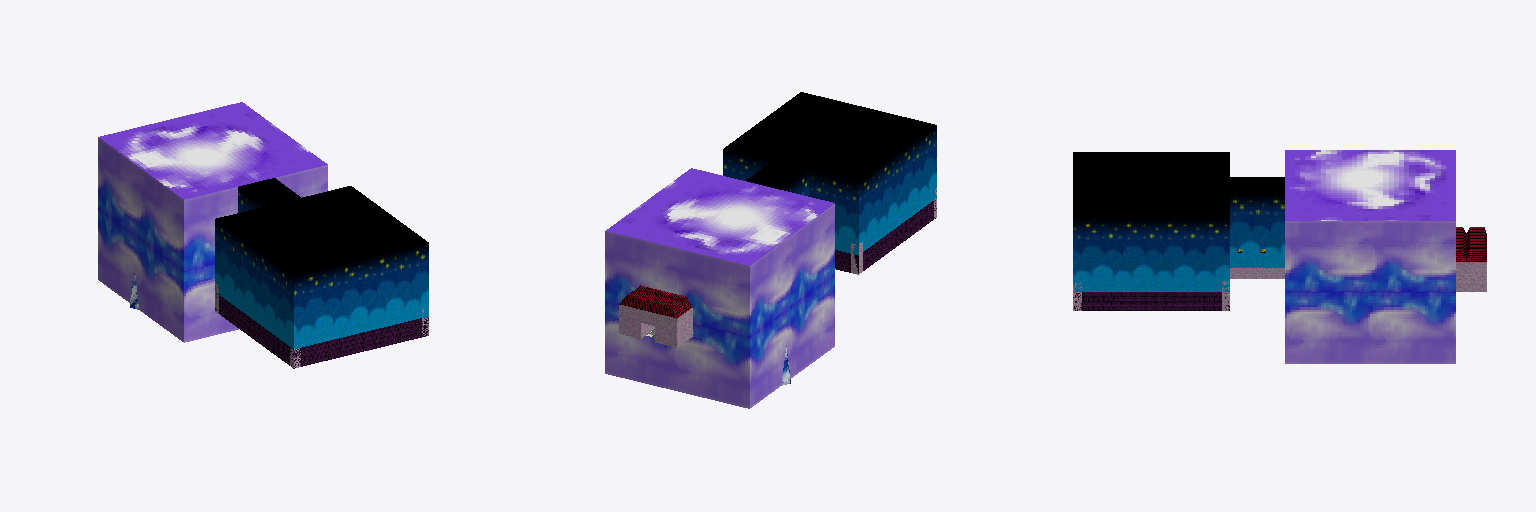
3 views of the same model, side by side, from view 1: azimuth 30°, elevation 25°; view 2: azimuth 150°, elevation 25°; view 3: azimuth 270°, elevation 25° (orthographic).
Parts seen in each view (by area): view 1: mesh.001__251.001, mesh.001__106.001, mesh.001__254.001, mesh.001__125.001, mesh.001__94.001; view 2: mesh.001__251.001, mesh.001__254.001, mesh.001__125.001, mesh.001__106.001, mesh.001__97.001, mesh.001__94.001, mesh.001__74.001; view 3: mesh.001__251.001, mesh.001__106.001, mesh.001__254.001, mesh.001__125.001, mesh.001__94.001, mesh.001__97.001, mesh.001__74.001.
Part boxes in pixels (bbox=[...]): mesh.001__251.001: bbox=[98, 137, 327, 342]; mesh.001__106.001: bbox=[215, 187, 428, 348]; mesh.001__254.001: bbox=[99, 102, 327, 199]; mesh.001__125.001: bbox=[216, 178, 428, 275]; mesh.001__94.001: bbox=[215, 294, 428, 368]; mesh.001__251.001: bbox=[605, 204, 834, 408]; mesh.001__254.001: bbox=[606, 168, 834, 265]; mesh.001__125.001: bbox=[724, 92, 935, 189]; mesh.001__106.001: bbox=[723, 125, 936, 255]; mesh.001__97.001: bbox=[619, 188, 936, 347]; mesh.001__94.001: bbox=[835, 200, 936, 272]; mesh.001__74.001: bbox=[619, 285, 692, 318]; mesh.001__251.001: bbox=[1285, 221, 1455, 363]; mesh.001__106.001: bbox=[1073, 195, 1284, 291]; mesh.001__254.001: bbox=[1285, 150, 1455, 220]; mesh.001__125.001: bbox=[1073, 152, 1284, 218]; mesh.001__94.001: bbox=[1073, 292, 1229, 310]; mesh.001__97.001: bbox=[1073, 262, 1486, 310]; mesh.001__74.001: bbox=[1456, 227, 1486, 261].
Size of the model in its own units: 2011 by 1847 by 4836.
19 materials, 17 textured.